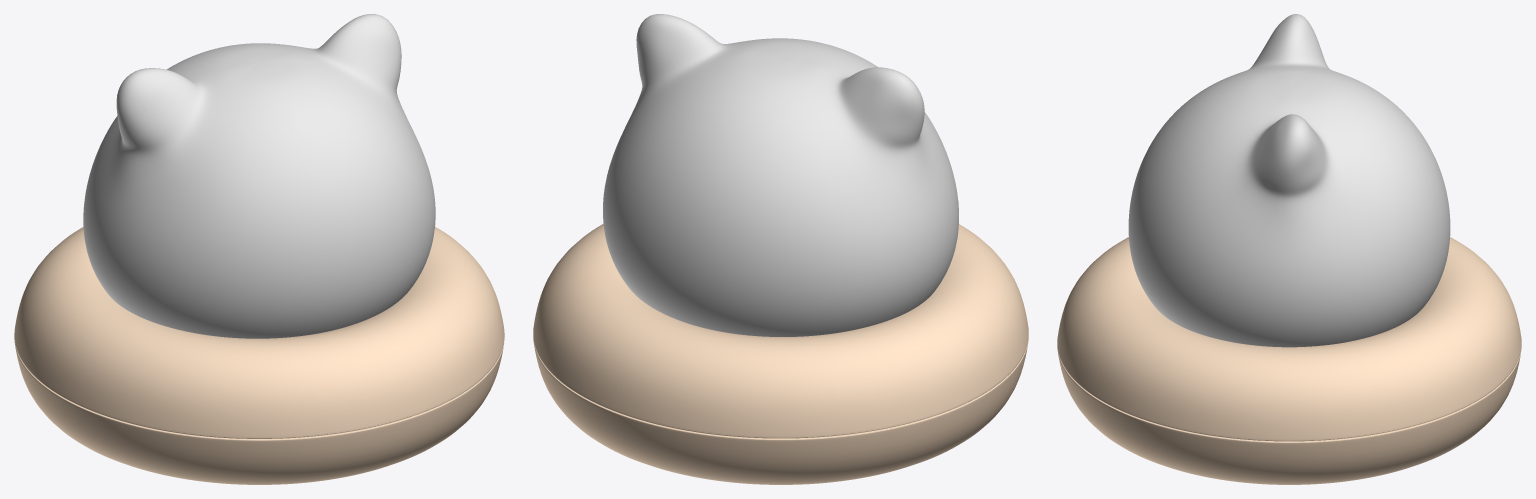
File: lampada_gattino.fbx
The picture shows the model from 3 angles, left to right: view 1: azimuth 30°, elevation 25°; view 2: azimuth 150°, elevation 25°; view 3: azimuth 270°, elevation 25°; orthographic projection. The views are drawn at different scales.
Parts seen in each view (by area): view 1: Sphere; view 2: Sphere; view 3: Sphere.
Boxes of the visible parts, x1,y1,x2,y2 form: Sphere: (14, 14, 504, 484); Sphere: (533, 14, 1028, 484); Sphere: (1057, 14, 1521, 484).
Bounding box in the file's own units: 10.04 × 8.14 × 10.04.
